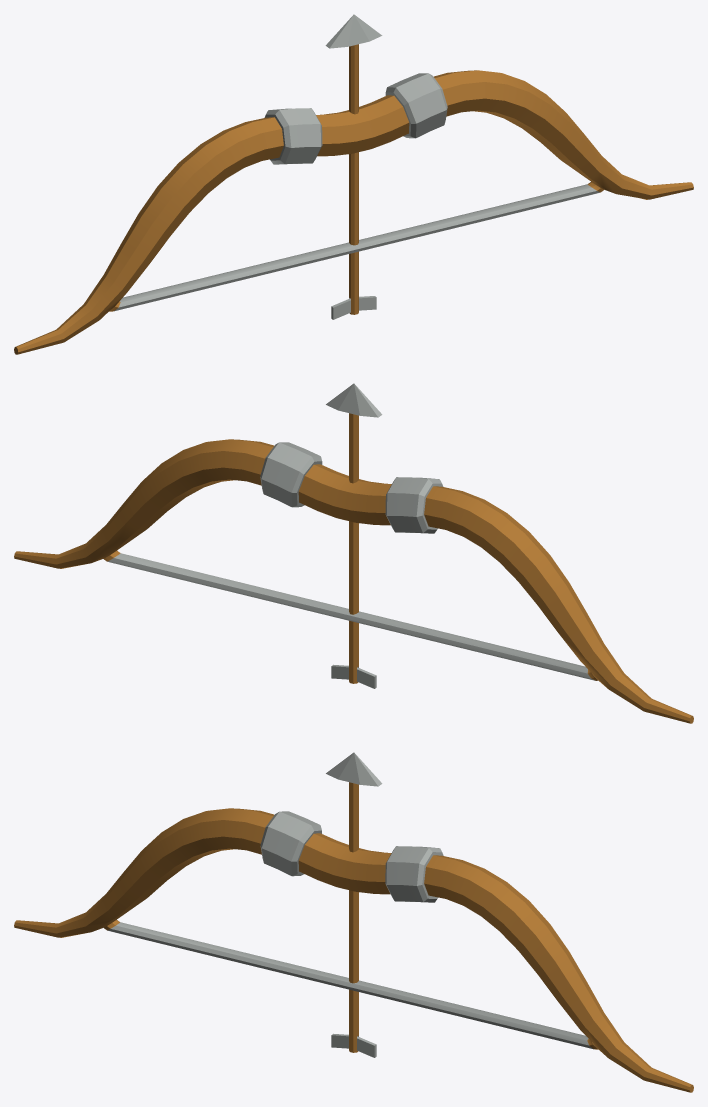
Rendered from okyay.fbx.
3 renders of one model, top to bottom at view 1: azimuth 30°, elevation 25°; view 2: azimuth 150°, elevation 25°; view 3: azimuth 330°, elevation 25°, orthographic.
Visible parts, largest first — view 1: yay, ok; view 2: yay, ok; view 3: yay, ok.
Boxes of the visible parts, bbox=[...] form: yay: bbox=[14, 70, 693, 354]; ok: bbox=[325, 14, 382, 319]; yay: bbox=[14, 439, 693, 723]; ok: bbox=[326, 383, 382, 688]; yay: bbox=[14, 808, 693, 1092]; ok: bbox=[326, 752, 382, 1057].
Bounding box in the file's own units: 226 × 95.94 × 17.39.
